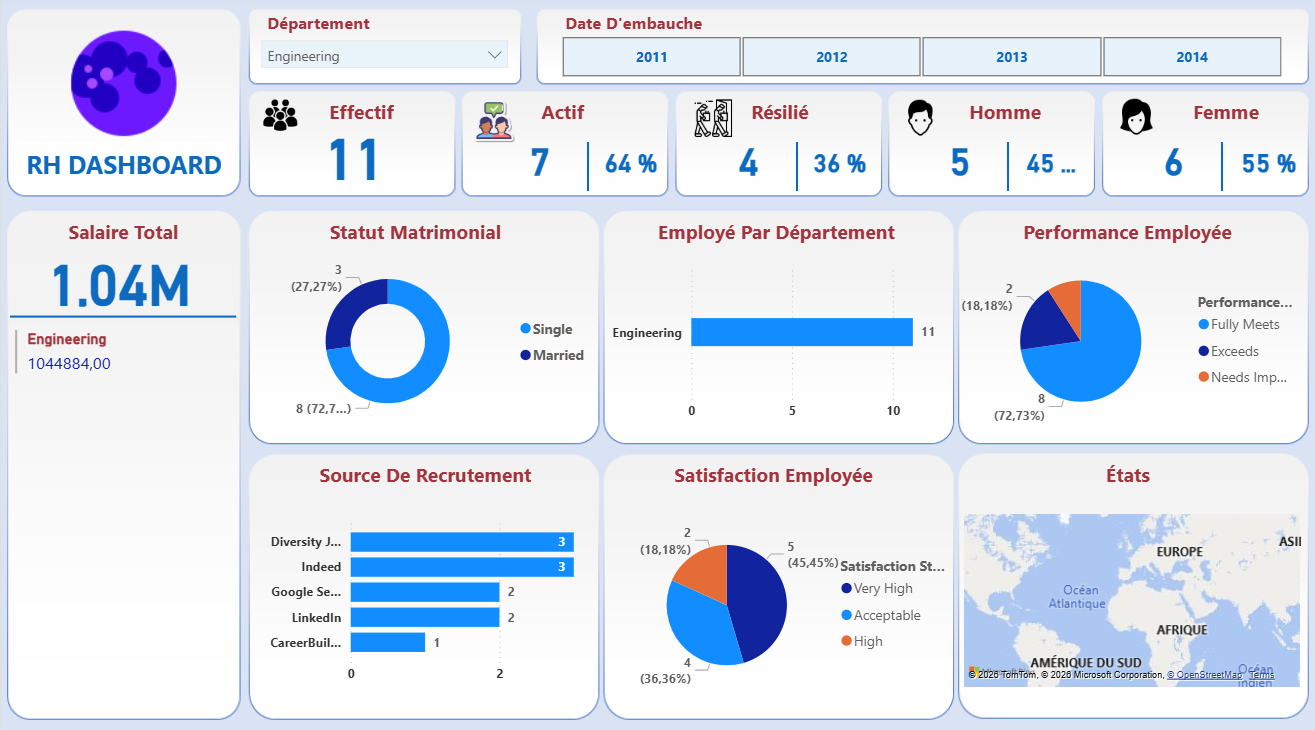

What the dashboard file says about the page in this screenshot:
{"tool":"powerbi","page":{"name":"RH DASHBOARD","canvas":[1280,720],"ordinal":0},"visuals":[{"type":"image","box":[37,18.5,165.3,133.3],"z":0},{"type":"card","fields":{"Values":["All measures.Active"]},"box":[479.5,132.3,88.5,52.5],"z":0,"group":"g1"},{"type":"card","fields":{"Values":["All measures.Terminated"]},"box":[682.8,132.3,88.5,52.5],"z":0,"group":"g2"},{"type":"card","fields":{"Values":["All measures.Male"]},"box":[888,132.3,88.5,52.5],"z":0,"group":"g3"},{"type":"card","fields":{"Values":["All measures.Female"]},"box":[1096.2,132.3,88.5,52.5],"z":0,"group":"g4"},{"type":"textbox","box":[19.5,142,200.4,42.8],"z":1000},{"type":"shape","box":[560.2,142,21.4,47.7],"z":1000,"group":"g1"},{"type":"shape","box":[763.5,142,21.4,47.7],"z":1000,"group":"g2"},{"type":"shape","box":[968.7,142,21.4,47.7],"z":1000,"group":"g3"},{"type":"shape","box":[1176.9,142,21.4,47.7],"z":1000,"group":"g4"},{"type":"card","fields":{"Values":["All measures.Active %"]},"box":[581.6,140.1,62.2,42.8],"z":2000,"group":"g1"},{"type":"card","fields":{"Values":["All measures.Terminated %"]},"box":[784.9,140.1,62.2,42.8],"z":2000,"group":"g2"},{"type":"card","fields":{"Values":["All measures.Male %"]},"box":[990.1,140.1,62.2,42.8],"z":2000,"group":"g3"},{"type":"card","fields":{"Values":["All measures.Female %"]},"box":[1198.2,140.8,69.1,41.8],"z":2000,"group":"g4"},{"type":"shape","box":[9,288.1,220.3,47.9],"z":2000},{"type":"slicer","fields":{"Values":["HRData.Department"]},"box":[243.2,33.1,259.7,44.7],"z":3000},{"type":"slicer","fields":{"Values":["HRData.Hiring Year"]},"box":[520.4,33.1,748.9,51.6],"z":4000},{"type":"textbox","box":[253.9,9.7,119.6,38.9],"z":5000},{"type":"textbox","box":[543.7,9.7,235.4,31.1],"z":6000},{"type":"textbox","box":[314.2,94.3,99.2,35],"z":7000},{"type":"image","box":[243.2,94.3,56.4,42.8],"z":8000},{"type":"textbox","box":[520.4,94.3,80.7,35],"z":9000},{"type":"image","box":[447.4,94.3,64.2,54.5],"z":10000},{"type":"textbox","box":[724.6,94.3,80.7,35],"z":11000},{"type":"image","box":[661.4,94.3,63.2,48.6],"z":12000},{"type":"textbox","box":[936.7,94.3,80.7,35],"z":13000},{"type":"textbox","box":[1154.5,94.3,80.7,35],"z":14000},{"type":"image","box":[862.7,94.3,63.2,47.7],"z":15000},{"type":"image","box":[1072.8,93.4,63.2,47.7],"z":16000},{"type":"textbox","box":[314.2,211.1,178,38.9],"z":17000},{"type":"textbox","box":[627.4,211.1,253.9,38.9],"z":18000},{"type":"textbox","box":[977.5,211.1,236.4,38.9],"z":19000},{"type":"textbox","box":[286,447.4,253.9,38.9],"z":20000},{"type":"textbox","box":[640,447.4,222.7,38.9],"z":21000},{"type":"textbox","box":[1052.4,447.4,87.5,38.9],"z":22000},{"type":"textbox","box":[50.6,211.1,137.1,38.9],"z":23000},{"type":"card","fields":{"Values":["All measures.Headcount"]},"box":[283,118.7,120.6,66.1],"z":24000},{"type":"group","id":"g1","title":"Groupe 1","box":[479.5,132.3,164.4,57.4],"z":25000},{"type":"group","id":"g2","title":"Groupe 1","box":[682.8,132.3,164.4,57.4],"z":26000},{"type":"group","id":"g3","title":"Groupe 1","box":[888,132.3,164.4,57.4],"z":27000},{"type":"group","id":"g4","title":"Groupe 1","box":[1096.2,132.3,171,57.4],"z":28000},{"type":"donutChart","fields":{"Y":["All measures.Headcount"],"Category":["HRData.MaritalStatus"]},"box":[243.2,250.2,337.9,171.5],"z":29000},{"type":"clusteredBarChart","fields":{"Category":["HRData.Department"],"Y":["All measures.Headcount"]},"box":[588.2,250.2,336.9,171.5],"z":30000},{"type":"pieChart","fields":{"Y":["All measures.Headcount"],"Category":["HRData.PerformanceScore"]},"box":[932.1,250.2,335,171.5],"z":31000},{"type":"clusteredBarChart","fields":{"Y":["All measures.Headcount"],"Category":["HRData.RecruitmentSource"]},"box":[243.2,499.4,336.9,178.4],"z":32000},{"type":"pieChart","fields":{"Y":["All measures.Headcount"],"Category":["HRData.Satisfaction Status"]},"box":[590.2,506.4,335,171.5],"z":33000},{"type":"map","fields":{"Series":["HRData.State"],"Size":["All measures.Headcount"]},"box":[932.1,499.4,336.9,178.4],"z":34000},{"type":"card","fields":{"Values":["All measures.Total Salary"]},"box":[10,241.2,210.3,65.8],"z":35000},{"type":"multiRowCard","fields":{"Values":["All measures.Total Salary","HRData.Department"]},"box":[9,320,220.3,382.8],"z":36000}]}

Visuals, with their boxes in screenshot pixels (x1, y1, x2, y2), scaled from the page's 1280x720 canvas onto the 1315x730 screenshot:
image: bbox=(38, 19, 208, 154)
card - All measures.Active: bbox=(493, 134, 584, 187)
card - All measures.Terminated: bbox=(701, 134, 792, 187)
card - All measures.Male: bbox=(912, 134, 1003, 187)
card - All measures.Female: bbox=(1126, 134, 1217, 187)
textbox: bbox=(20, 144, 226, 187)
shape: bbox=(576, 144, 598, 192)
shape: bbox=(784, 144, 806, 192)
shape: bbox=(995, 144, 1017, 192)
shape: bbox=(1209, 144, 1231, 192)
card - All measures.Active %: bbox=(598, 142, 661, 185)
card - All measures.Terminated %: bbox=(806, 142, 870, 185)
card - All measures.Male %: bbox=(1017, 142, 1081, 185)
card - All measures.Female %: bbox=(1231, 143, 1302, 185)
shape: bbox=(9, 292, 236, 341)
slicer - HRData.Department: bbox=(250, 34, 517, 79)
slicer - HRData.Hiring Year: bbox=(535, 34, 1304, 86)
textbox: bbox=(261, 10, 384, 49)
textbox: bbox=(559, 10, 800, 41)
textbox: bbox=(323, 96, 425, 131)
image: bbox=(250, 96, 308, 139)
textbox: bbox=(535, 96, 618, 131)
image: bbox=(460, 96, 526, 151)
textbox: bbox=(744, 96, 827, 131)
image: bbox=(679, 96, 744, 145)
textbox: bbox=(962, 96, 1045, 131)
textbox: bbox=(1186, 96, 1269, 131)
image: bbox=(886, 96, 951, 144)
image: bbox=(1102, 95, 1167, 143)
textbox: bbox=(323, 214, 506, 253)
textbox: bbox=(645, 214, 905, 253)
textbox: bbox=(1004, 214, 1247, 253)
textbox: bbox=(294, 454, 555, 493)
textbox: bbox=(658, 454, 886, 493)
textbox: bbox=(1081, 454, 1171, 493)
textbox: bbox=(52, 214, 193, 253)
card - All measures.Headcount: bbox=(291, 120, 415, 187)
"Groupe 1" group: bbox=(493, 134, 662, 192)
"Groupe 1" group: bbox=(701, 134, 870, 192)
"Groupe 1" group: bbox=(912, 134, 1081, 192)
"Groupe 1" group: bbox=(1126, 134, 1302, 192)
donutChart - All measures.Headcount x HRData.MaritalStatus: bbox=(250, 254, 597, 428)
clusteredBarChart - HRData.Department x All measures.Headcount: bbox=(604, 254, 950, 428)
pieChart - All measures.Headcount x HRData.PerformanceScore: bbox=(958, 254, 1302, 428)
clusteredBarChart - All measures.Headcount x HRData.RecruitmentSource: bbox=(250, 506, 596, 687)
pieChart - All measures.Headcount x HRData.Satisfaction Status: bbox=(606, 513, 950, 687)
map - HRData.State x All measures.Headcount: bbox=(958, 506, 1304, 687)
card - All measures.Total Salary: bbox=(10, 245, 226, 311)
multiRowCard - All measures.Total Salary x HRData.Department: bbox=(9, 324, 236, 713)
